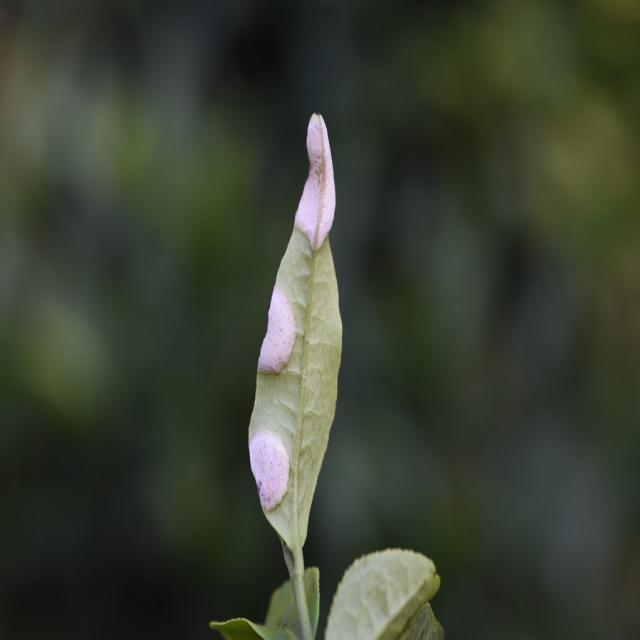Tea cake: (298, 110, 349, 256), (244, 272, 314, 374), (244, 415, 295, 508)
